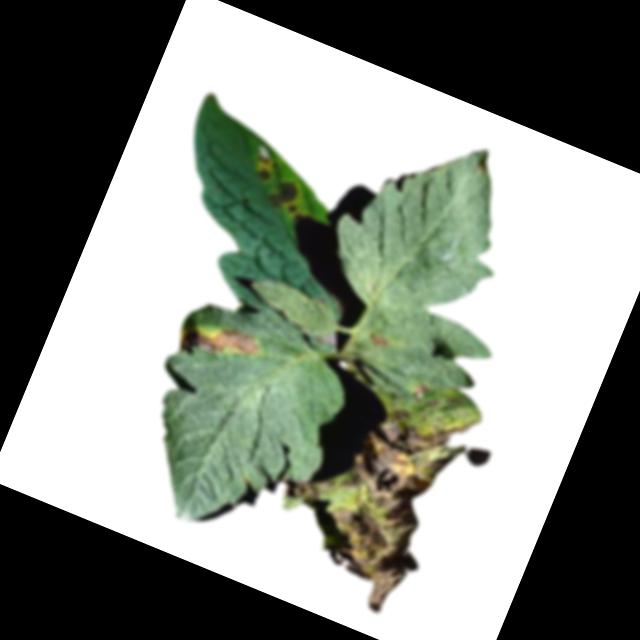Early_blight: (246, 343, 484, 621), (173, 311, 262, 379), (265, 178, 311, 221), (248, 151, 281, 188), (365, 330, 392, 353)
